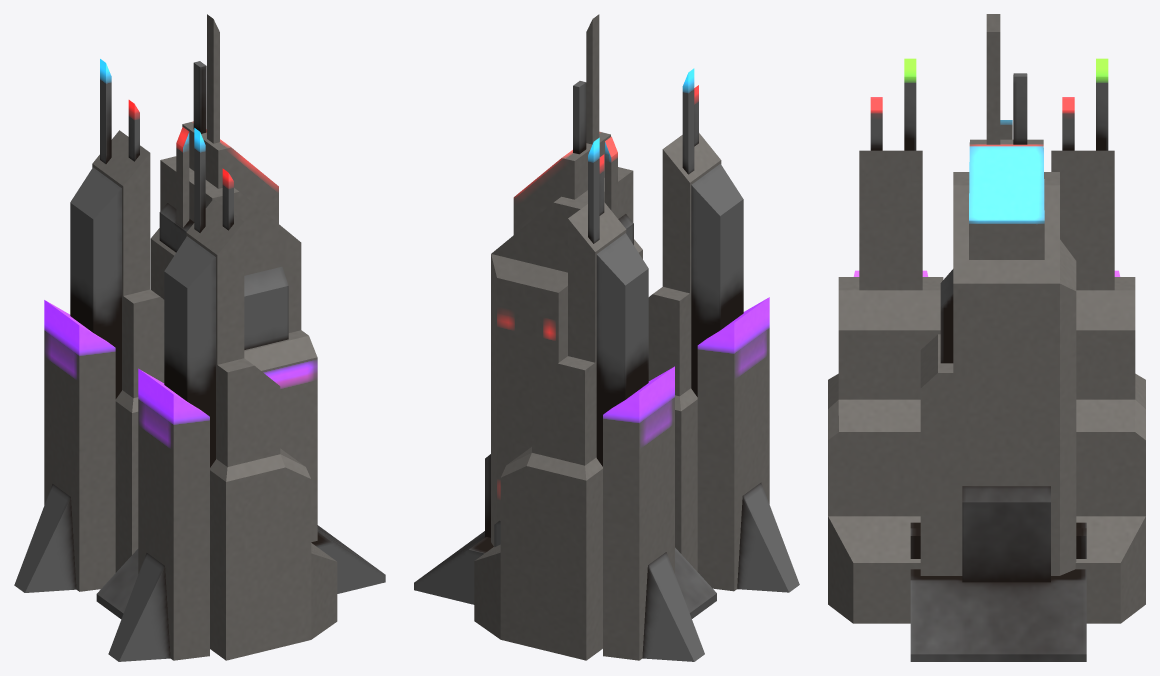
The model's file is SM_BackgroundBuilding_020.fbx.
3 renders of one model, left to right at view 1: azimuth 30°, elevation 25°; view 2: azimuth 150°, elevation 25°; view 3: azimuth 270°, elevation 25°, orthographic. The views are drawn at different scales.
Parts seen in each view (by area): view 1: SM_BackgroundBuilding_020_LOD0; view 2: SM_BackgroundBuilding_020_LOD0; view 3: SM_BackgroundBuilding_020_LOD0.
Boxes of the visible parts, bbox=[...] form: SM_BackgroundBuilding_020_LOD0: bbox=[14, 14, 385, 661]; SM_BackgroundBuilding_020_LOD0: bbox=[414, 14, 799, 661]; SM_BackgroundBuilding_020_LOD0: bbox=[828, 14, 1145, 661].
Bounding box in the file's own units: 2193 × 2100 × 4232.
1 material, 1 textured.
